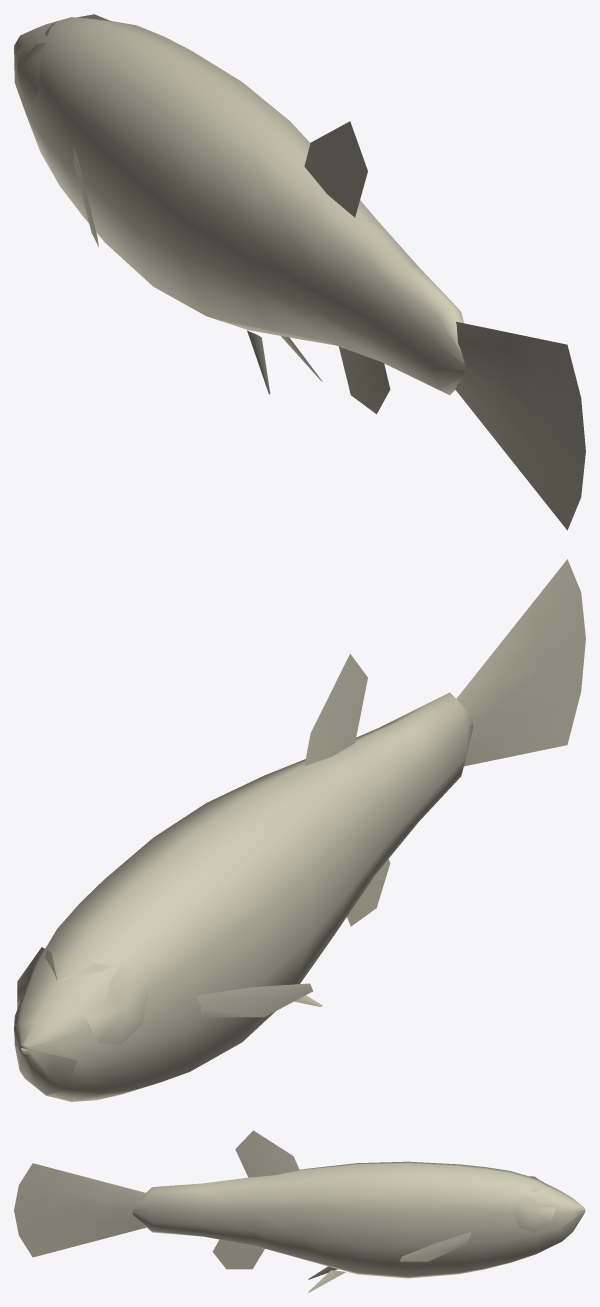
The model's file is guppy_female_lo.glb.
3 renders of one model, top to bottom at view 1: azimuth 30°, elevation 25°; view 2: azimuth 150°, elevation 25°; view 3: azimuth 270°, elevation 25°, orthographic. The views are drawn at different scales.
Visible parts, largest first — view 1: guppy_female_lo; view 2: guppy_female_lo; view 3: guppy_female_lo.
Boxes of the visible parts, left/top/right/bottom form: guppy_female_lo: left=14, top=14, right=585, bottom=530; guppy_female_lo: left=14, top=559, right=585, bottom=1101; guppy_female_lo: left=14, top=1130, right=585, bottom=1292.
Bounding box in the file's own units: 0.00991 × 0.0136 × 0.0451.
